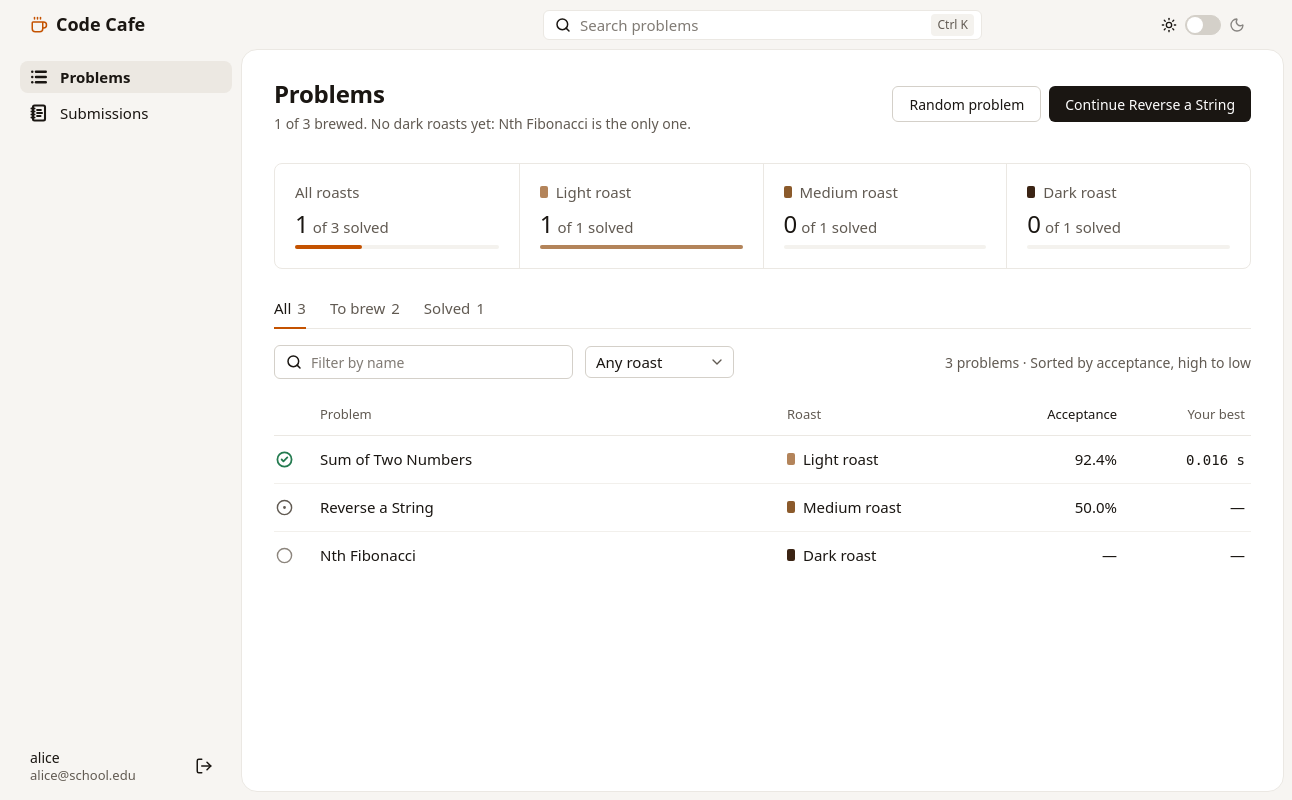
app shell › shows username, email and a logout button when logged in, and logs out
Check: the text "alice@school.edu" is shown, box [30,767,136,783]
Click the button named "Log out" at coordinates (204, 766), box [186,748,222,784]
(page scrolled)
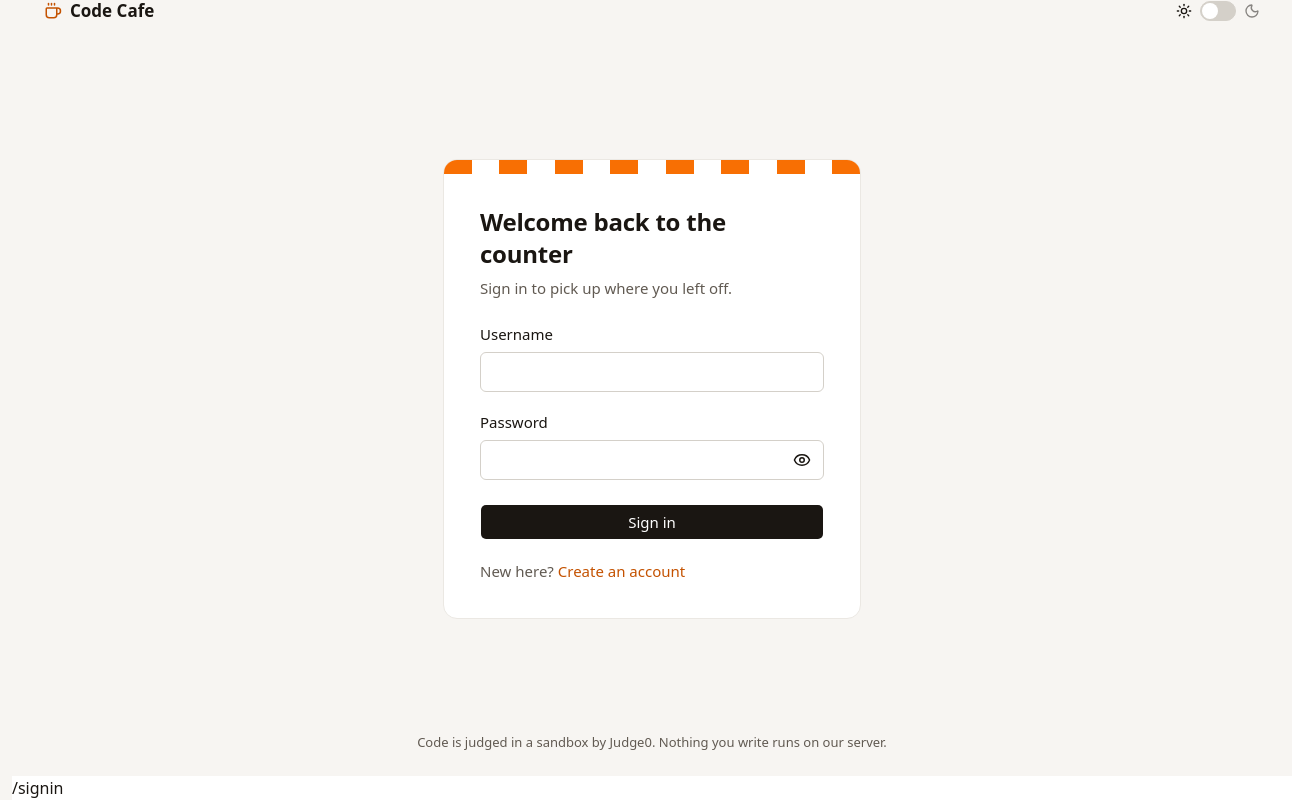
Check: the text with test id "where" reads "/signin", box [12,777,64,799]
